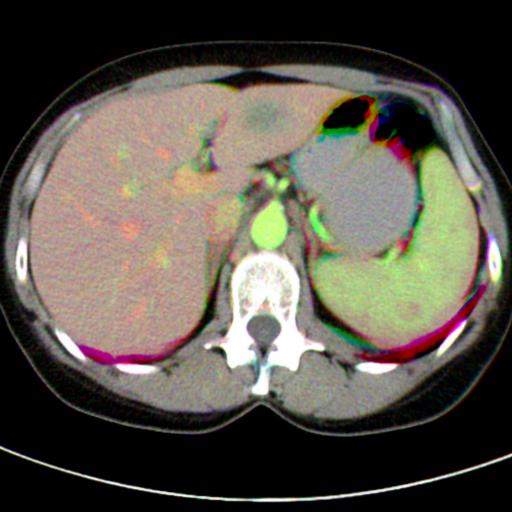Cyst: (243, 100, 281, 132)
